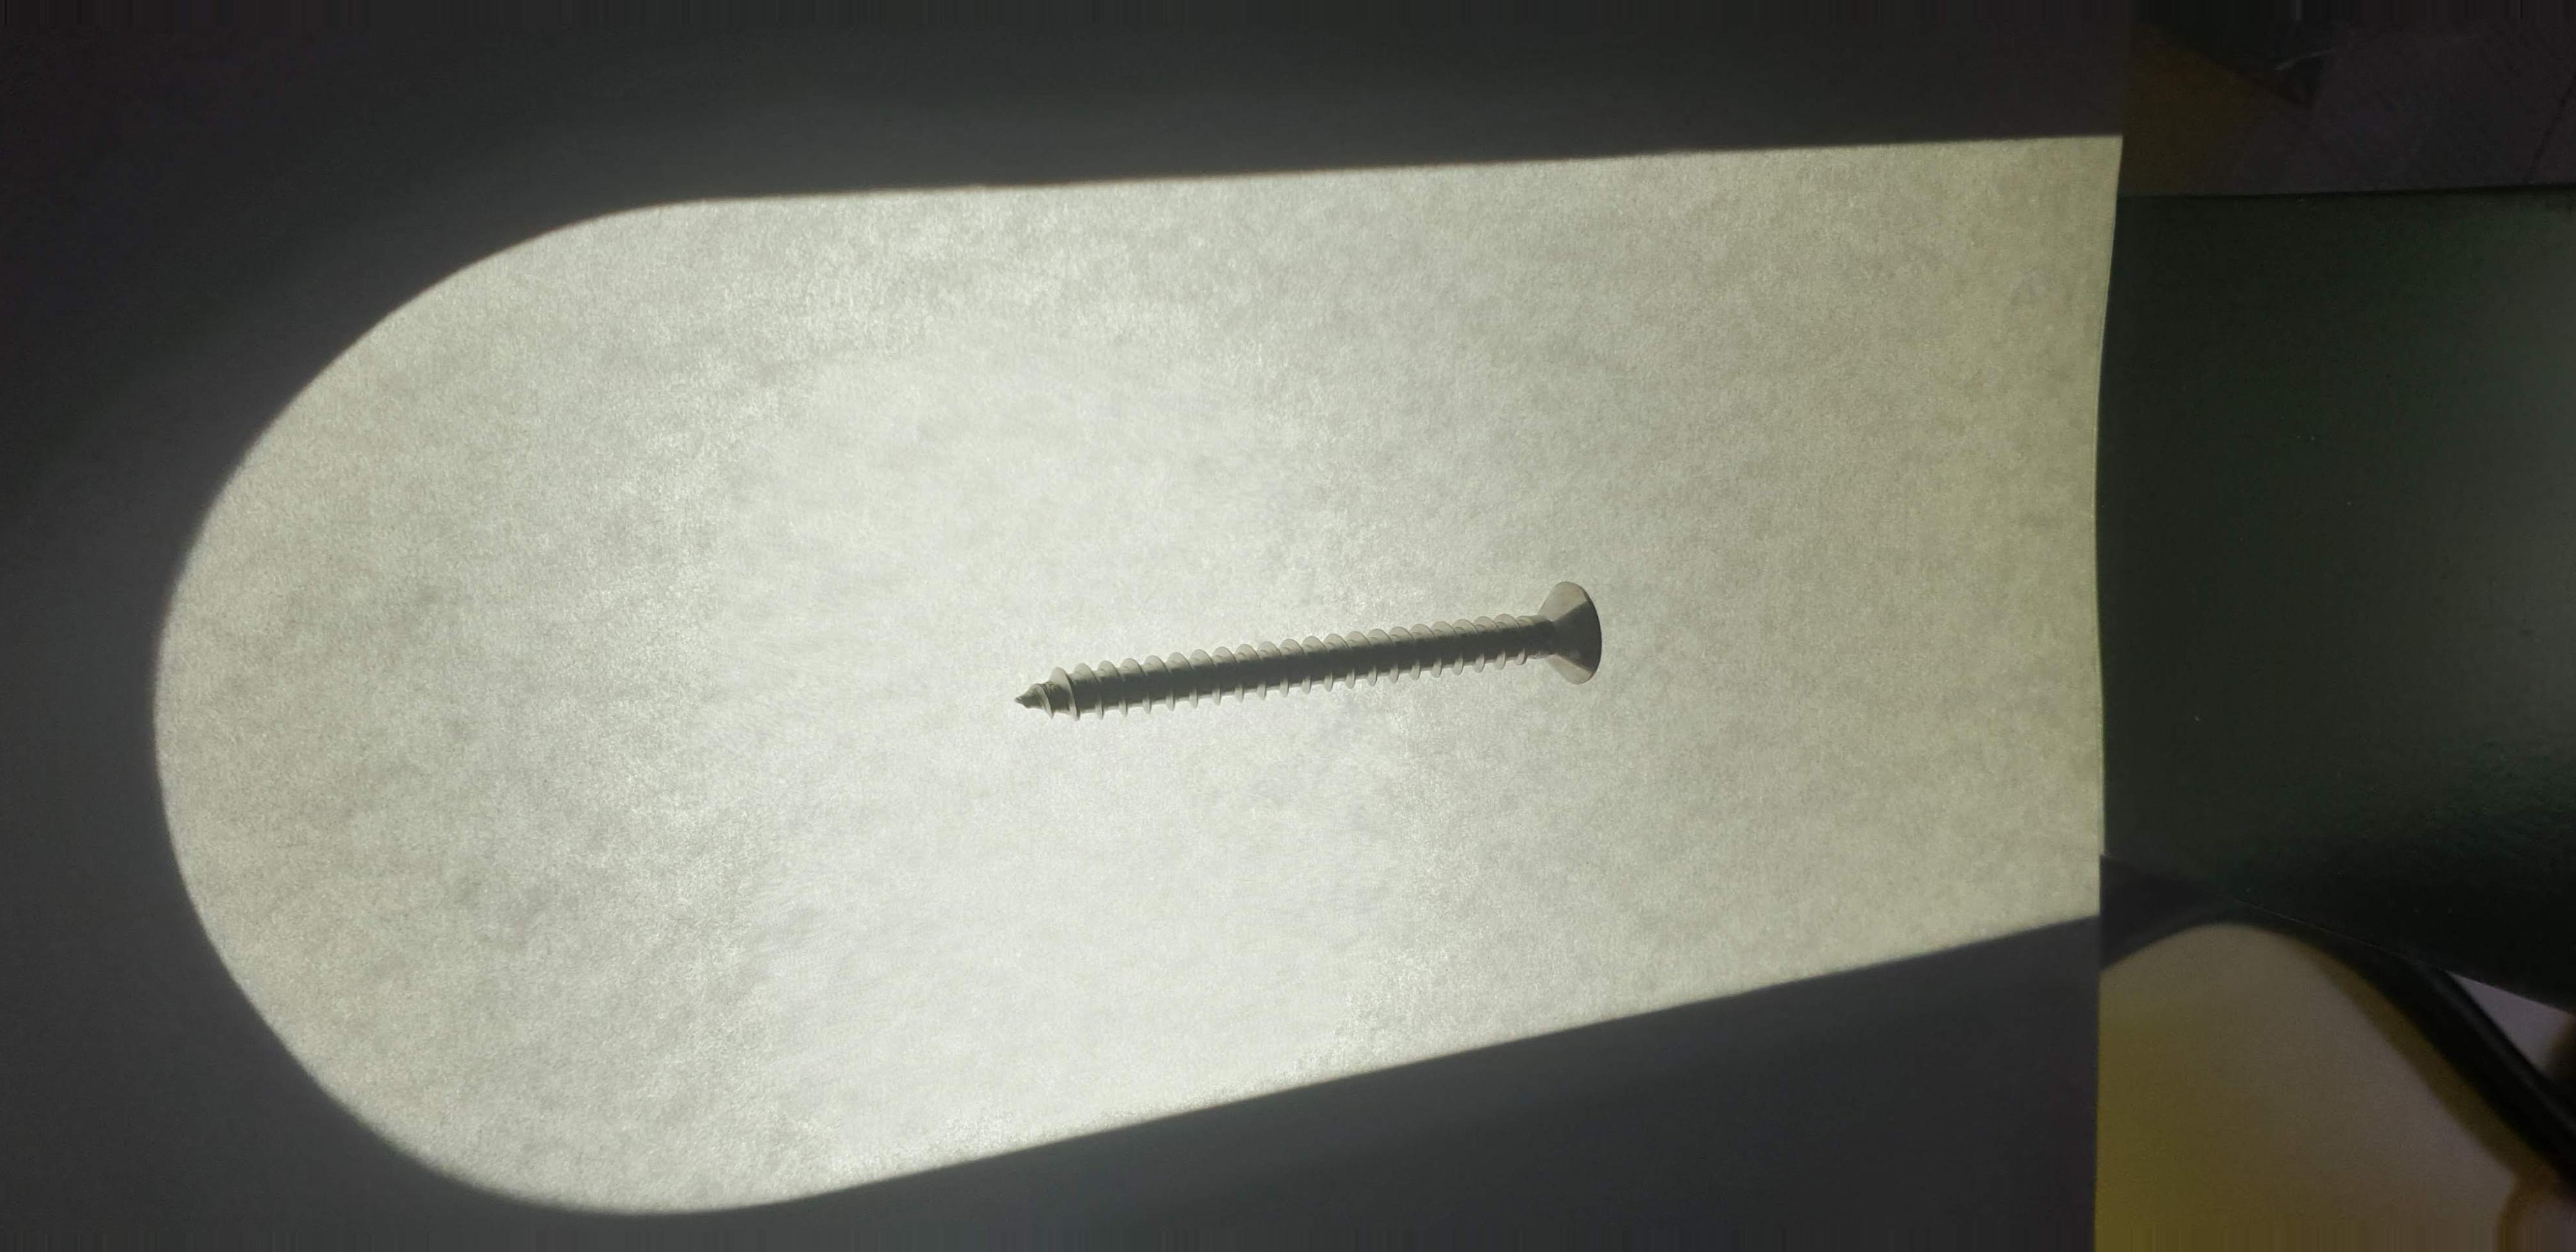S001: (996, 565, 1633, 734)
